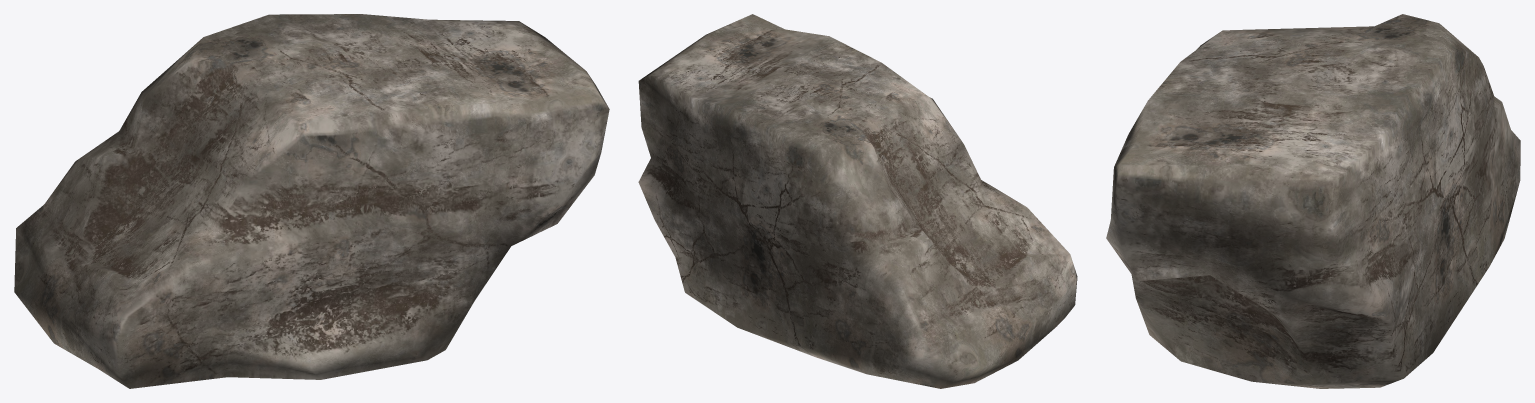
File: Rock_3.fbx
3 views of the same model, side by side, from view 1: azimuth 30°, elevation 25°; view 2: azimuth 150°, elevation 25°; view 3: azimuth 270°, elevation 25° (orthographic). The views are drawn at different scales.
Visible parts, largest first — view 1: Rock_3; view 2: Rock_3; view 3: Rock_3.
Boxes of the visible parts, left/top/right/bottom form: Rock_3: left=14, top=14, right=609, bottom=388; Rock_3: left=638, top=14, right=1077, bottom=388; Rock_3: left=1106, top=14, right=1520, bottom=388.
Bounding box in the file's own units: 791 × 435 × 551.
1 material, 1 textured.
